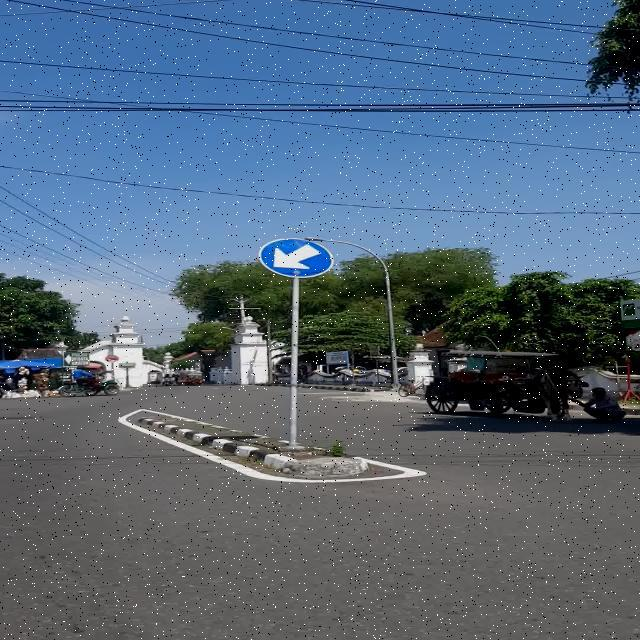Lajur Kiri: (258, 238, 333, 278)
